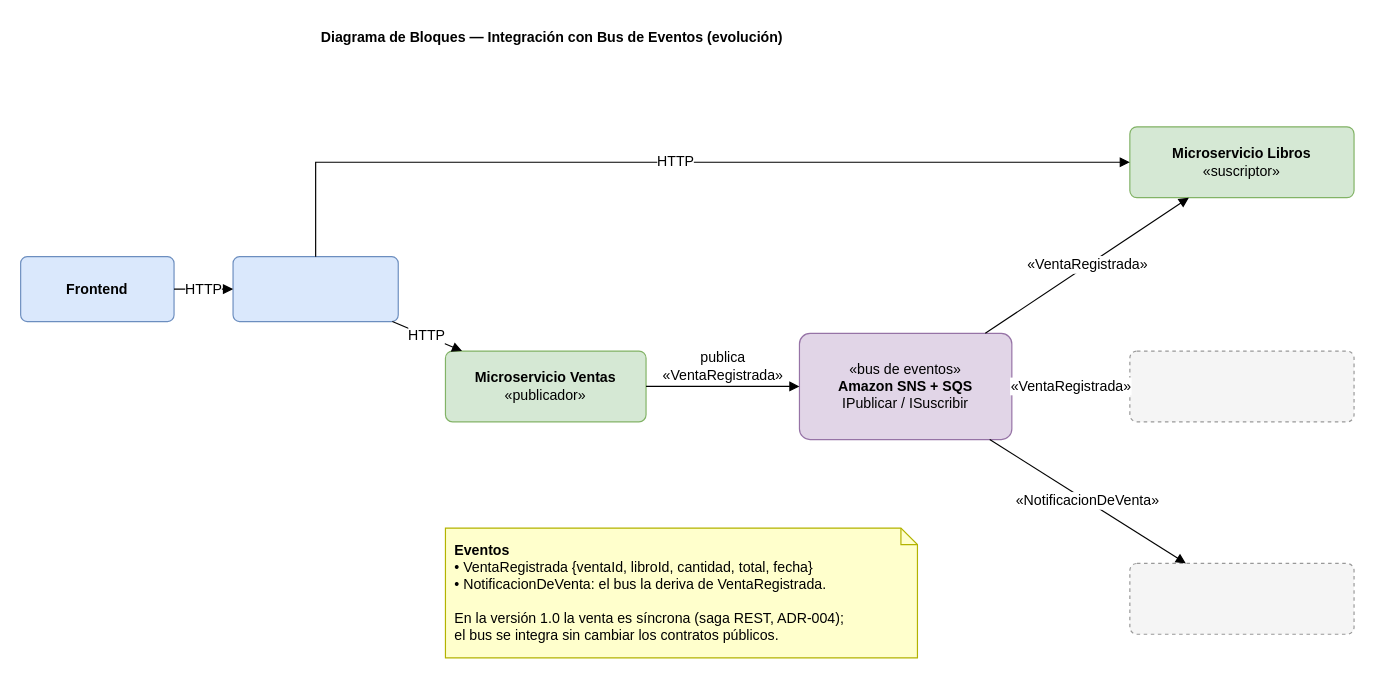
This 1375x679 diagram has some shape labels left out. The centre of each missing label's shape, as x and y in pixels:
API Gateway: the point at 315,288
Proyección de Ranking «suscriptor» (futuro): the point at 1241,386
Servicio de Notificaciones «suscriptor» (futuro): the point at 1241,598
